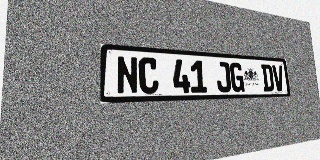1: (189, 60, 207, 93)
4: (172, 59, 191, 93)
C: (138, 57, 159, 94)
D: (261, 64, 274, 91)
G: (229, 62, 245, 92)
J: (215, 62, 231, 92)
N: (116, 56, 138, 94)
V: (272, 65, 285, 91)
